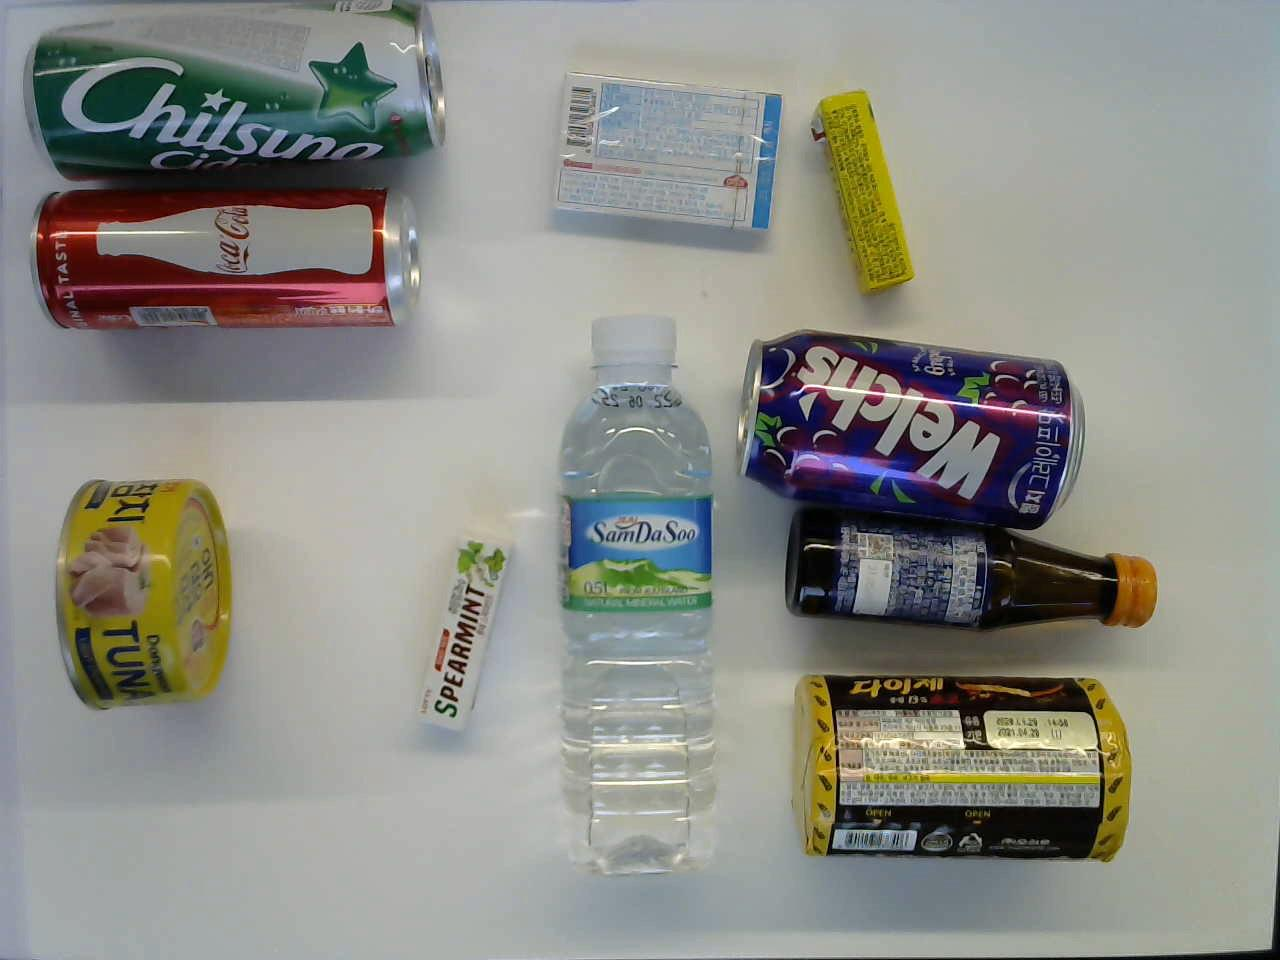ID_gum: (536, 66, 787, 234)
cidar: (21, 3, 450, 172)
coke: (25, 182, 433, 342)
diget_choco: (782, 665, 1133, 862)
juicyfresh: (810, 87, 922, 296)
samdasu: (550, 309, 729, 891)
spearmint: (398, 528, 519, 754)
tuna: (42, 473, 241, 713)
vita500: (782, 510, 1162, 641)
welchs: (733, 318, 1089, 505)
